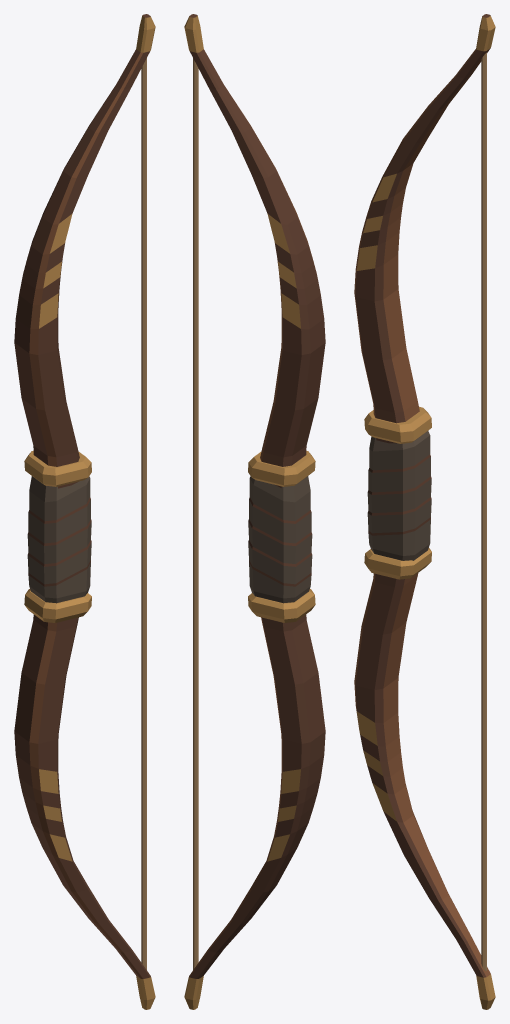
File: wsc-gear-003-bow.glb
The picture shows the model from 3 angles, left to right: view 1: azimuth 30°, elevation 25°; view 2: azimuth 150°, elevation 25°; view 3: azimuth 330°, elevation 25°; orthographic projection.
Visible parts, largest first — view 1: WSC-GEAR-003 | Bow | Inventory; view 2: WSC-GEAR-003 | Bow | Inventory; view 3: WSC-GEAR-003 | Bow | Inventory.
Part boxes in pixels (left/top/right/bottom): WSC-GEAR-003 | Bow | Inventory: left=14, top=14, right=155, bottom=1009; WSC-GEAR-003 | Bow | Inventory: left=184, top=14, right=325, bottom=1009; WSC-GEAR-003 | Bow | Inventory: left=354, top=14, right=495, bottom=1009.
Size of the model in its own units: 0.226 by 1.63 by 0.082.
